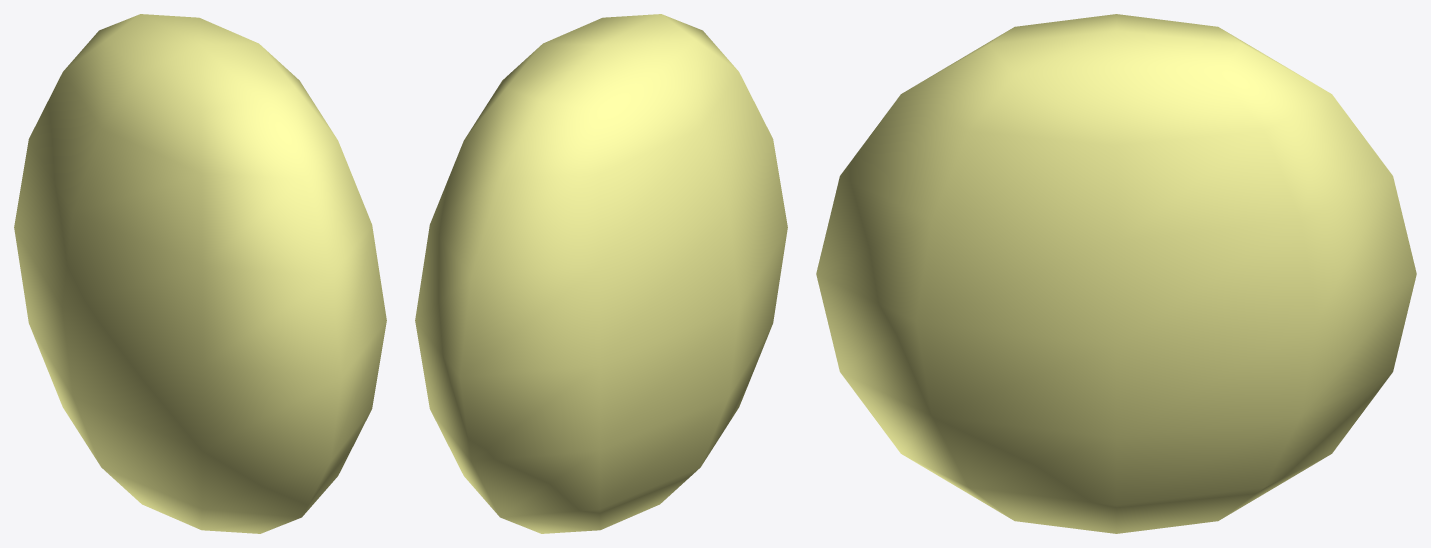
The model's file is Yellow.fbx.
3 views of the same model, side by side, from view 1: azimuth 30°, elevation 25°; view 2: azimuth 150°, elevation 25°; view 3: azimuth 270°, elevation 25° (orthographic). The views are drawn at different scales.
Visible parts, largest first — view 1: yellow; view 2: yellow; view 3: yellow.
Part boxes in pixels (left/top/right/bottom): yellow: left=14, top=14, right=386, bottom=533; yellow: left=415, top=14, right=787, bottom=533; yellow: left=816, top=14, right=1416, bottom=533.
Bounding box in the file's own units: 0.0508 × 0.0804 × 0.09.
